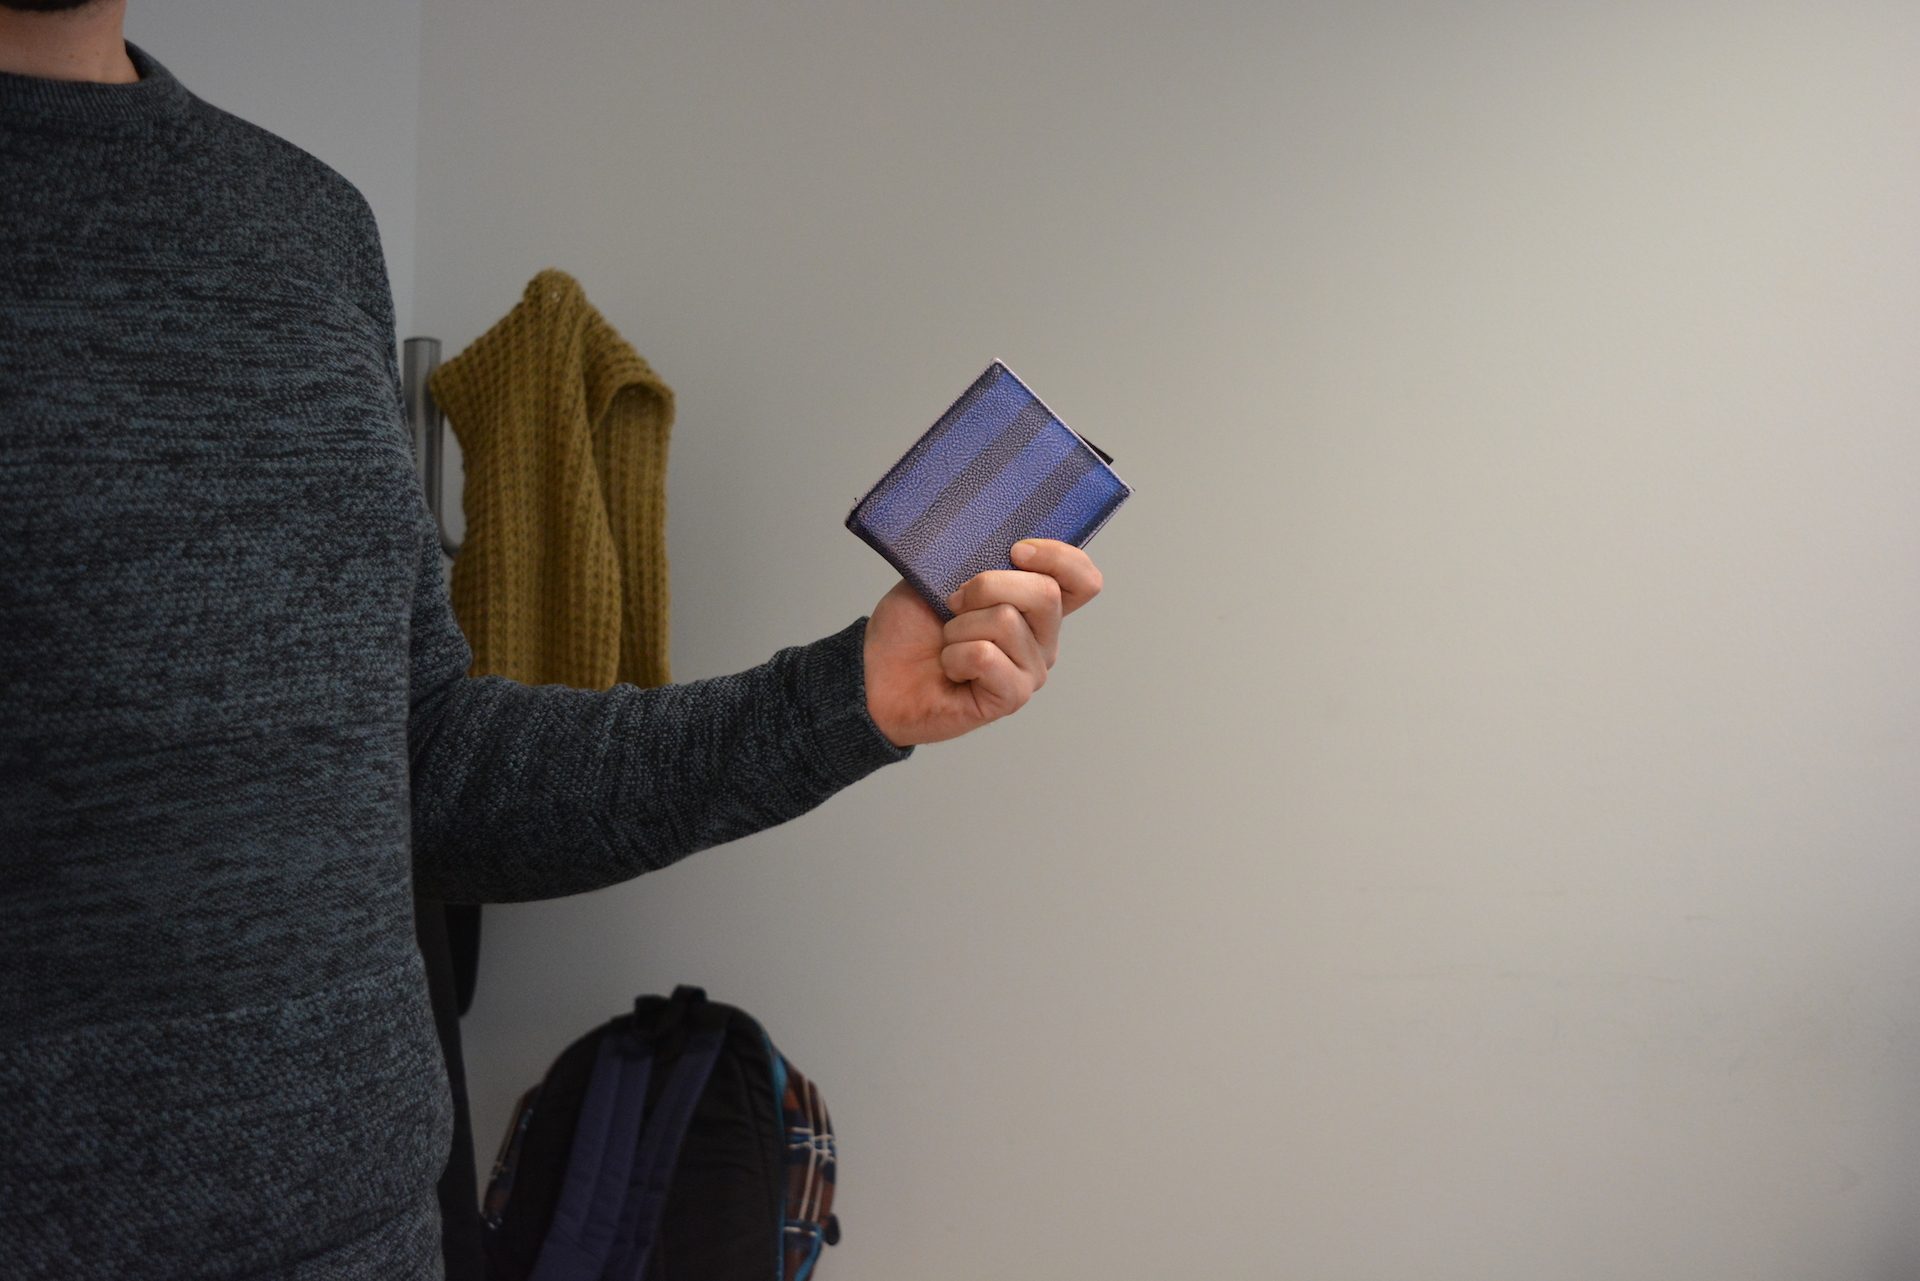monedero: (841, 355, 1137, 625)
